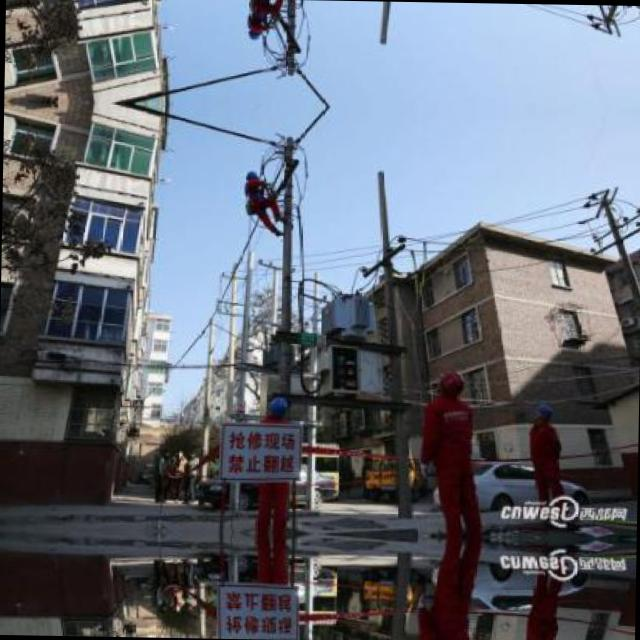helmet: (436, 366, 468, 402), (265, 396, 289, 426), (532, 400, 551, 428), (243, 168, 260, 186), (246, 23, 262, 42)
